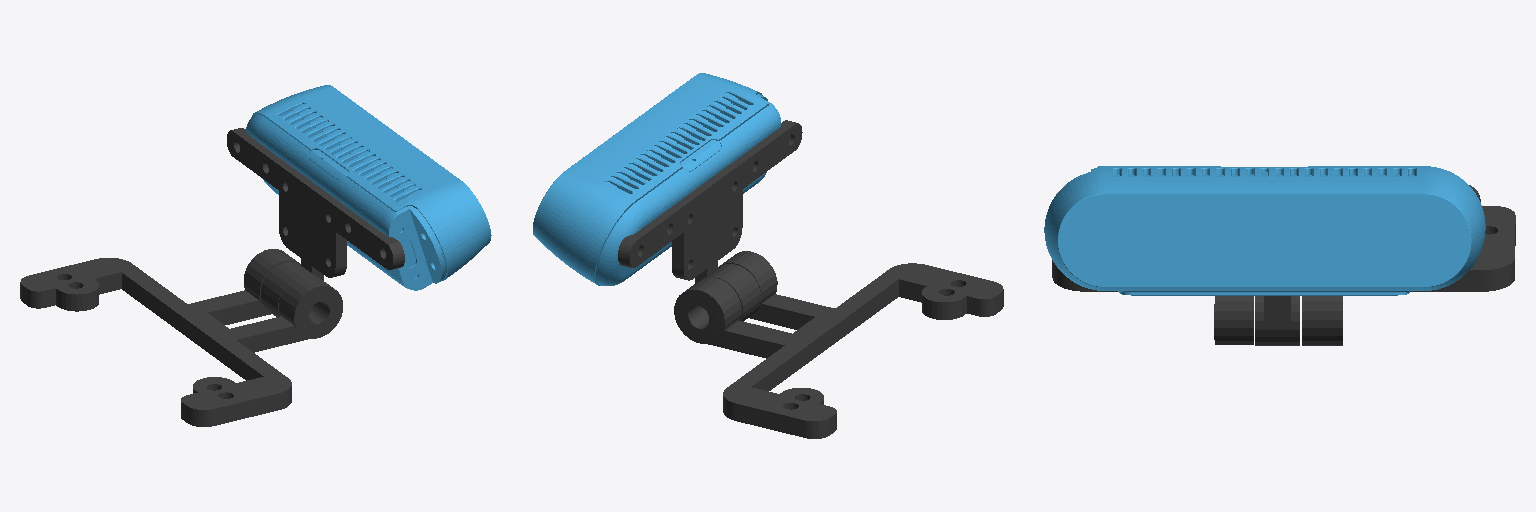
The robot description file, URDF, robot "turtlebot3_burger":
<?xml version="1.0" ?>
<!-- =================================================================================== -->
<!-- |    This document was autogenerated by xacro from turtlebot3_burger.urdf         | -->
<!-- |    EDITING THIS FILE BY HAND IS NOT RECOMMENDED                                 | -->
<!-- =================================================================================== -->
<robot name="turtlebot3_burger">
  <!-- <xacro:include filename="$(find turtlebot3_descriptions)/urdf/common_properties.urdf"/> -->
  <!-- Init colour -->
  <material name="black">
    <color rgba="0.0 0.0 0.0 1.0"/>
  </material>
  <material name="dark">
    <color rgba="0.3 0.3 0.3 1.0"/>
  </material>
  <material name="light_black">
    <color rgba="0.4 0.4 0.4 1.0"/>
  </material>
  <material name="blue">
    <color rgba="0.0 0.0 0.8 1.0"/>
  </material>
  <material name="green">
    <color rgba="0.0 0.8 0.0 1.0"/>
  </material>
  <material name="grey">
    <color rgba="0.5 0.5 0.5 1.0"/>
  </material>
  <material name="orange">
    <color rgba="1.0 0.4235 0.0392 1.0"/>
  </material>
  <material name="brown">
    <color rgba="0.8706 0.8118 0.7647 1.0"/>
  </material>
  <material name="red">
    <color rgba="0.8 0.0 0.0 1.0"/>
  </material>
  <material name="white">
    <color rgba="1.0 1.0 1.0 1.0"/>
  </material>
  <link name="base_footprint"/>
  <joint name="base_joint" type="fixed">
    <parent link="base_footprint"/>
    <child link="base_link"/>
    <origin rpy="0 0 0" xyz="0.0 0.0 0.010"/>
  </joint>
  <link name="base_link">
    <visual>
      <origin rpy="0 0 0" xyz="-0.032 0 0.0"/>
      <geometry>
        <mesh filename="package://turtlebot3_descriptions/meshes/bases/burger_base.stl" scale="0.001 0.001 0.001"/>
      </geometry>
      <material name="light_black"/>
    </visual>
    <collision>
      <origin rpy="0 0 0" xyz="-0.032 0 0.070"/>
      <geometry>
        <box size="0.140 0.140 0.143"/>
      </geometry>
    </collision>
    <inertial>
      <origin rpy="0 0 0" xyz="-0.033 0 0.07"/>
      <mass value="8.2573504e-01"/>
      <inertia ixx="2.2124416e-03" ixy="0.0" ixz="0.0" iyy="2.1193702e-03" iyz="0.0" izz="2.0064271e-03"/>
    </inertial>
  </link>
  <joint name="wheel_left_joint" type="continuous">
    <parent link="base_link"/>
    <child link="wheel_left_link"/>
    <origin rpy="-1.57 0 0" xyz="0.0 0.08 0.023"/>
    <axis xyz="0 0 1"/>
  </joint>
  <link name="wheel_left_link">
    <visual>
      <origin rpy="1.57 0 0" xyz="0 0 0"/>
      <geometry>
        <mesh filename="package://turtlebot3_descriptions/meshes/wheels/left_tire.stl" scale="0.001 0.001 0.001"/>
      </geometry>
      <material name="dark"/>
    </visual>
    <collision>
      <origin rpy="0 0 0" xyz="0 0 0"/>
      <geometry>
        <cylinder length="0.018" radius="0.033"/>
      </geometry>
    </collision>
    <inertial>
      <origin xyz="0 0 0"/>
      <mass value="2.8498940e-02"/>
      <inertia ixx="1.1175580e-05" ixy="0.0" ixz="0.0" iyy="1.1192413e-05" iyz="0.0" izz="2.0712558e-05"/>
    </inertial>
  </link>
  <joint name="wheel_right_joint" type="continuous">
    <parent link="base_link"/>
    <child link="wheel_right_link"/>
    <origin rpy="-1.57 0 0" xyz="0.0 -0.080 0.023"/>
    <axis xyz="0 0 1"/>
  </joint>
  <link name="wheel_right_link">
    <visual>
      <origin rpy="1.57 0 0" xyz="0 0 0"/>
      <geometry>
        <mesh filename="package://turtlebot3_descriptions/meshes/wheels/right_tire.stl" scale="0.001 0.001 0.001"/>
      </geometry>
      <material name="dark"/>
    </visual>
    <collision>
      <origin rpy="0 0 0" xyz="0 0 0"/>
      <geometry>
        <cylinder length="0.018" radius="0.033"/>
      </geometry>
    </collision>
    <inertial>
      <origin xyz="0 0 0"/>
      <mass value="2.8498940e-02"/>
      <inertia ixx="1.1175580e-05" ixy="0.0" ixz="0.0" iyy="1.1192413e-05" iyz="0.0" izz="2.0712558e-05"/>
    </inertial>
  </link>
  <joint name="caster_back_joint" type="fixed">
    <parent link="base_link"/>
    <child link="caster_back_link"/>
    <origin rpy="-1.57 0 0" xyz="-0.081 0 -0.004"/>
  </joint>
  <link name="caster_back_link">
    <collision>
      <origin rpy="0 0 0" xyz="0 0.001 0"/>
      <geometry>
        <box size="0.030 0.009 0.020"/>
      </geometry>
    </collision>
    <inertial>
      <origin xyz="0 0 0"/>
      <mass value="0.005"/>
      <inertia ixx="1.0e-07" ixy="0.0" ixz="0.0" iyy="1.0e-07" iyz="0.0" izz="1.0e-07"/>
    </inertial>
  </link>

  <joint name="support_cameras_a_joint" type="fixed">
    <parent link="base_link"/>
    <child link="support_cameras_a_link"/>
    <origin rpy="0 0 0" xyz="0.023 0 0.101"/>
  </joint>
  <link name="support_cameras_a_link">
    <visual>
      <origin rpy="0 0 1.57" xyz="0 0 0"/>
      <geometry>
        <mesh filename="package://turtlebot3_descriptions/meshes/sensors/support_cameras_part_a.stl" scale="0.001 0.001 0.001"/>
      </geometry>
      <material name="dark"/>
    </visual>
    <collision>
      <origin rpy="0 0 1.57" xyz="0.036 0.0 0"/>
      <geometry>
        <box size="0.09 0.03 0.015"/>
      </geometry>
    </collision>
  </link>

  <joint name="support_cameras_b_joint" type="fixed">
    <parent link="support_cameras_a_link"/>
    <child link="support_cameras_b_link"/>
    <origin rpy="0 -1.57 0" xyz="0.0435 0 0"/>
  </joint>
  <link name="support_cameras_b_link">
    <visual>
      <origin rpy="0 0 -1.57" xyz="0 0 0"/>
      <geometry>
        <mesh filename="package://turtlebot3_descriptions/meshes/sensors/support_cameras_part_b.stl" scale="0.001 0.001 0.001"/>
      </geometry>
      <material name="dark"/>
    </visual>
    <collision>
      <origin rpy="0 0 -1.57" xyz="0.018 0 0"/>
      <geometry>
        <box size="0.09 0.025 0.015"/>
      </geometry>
    </collision>
  </link>

  <joint name="imu_joint" type="fixed">
    <parent link="base_link"/>
    <child link="imu_link"/>
    <origin rpy="0 0 0" xyz="-0.032 0 0.068"/>
  </joint>
  <link name="imu_link"/>
  <joint name="scan_joint" type="fixed">
    <parent link="base_link"/>
    <child link="base_scan"/>
    <origin rpy="0 0 0" xyz="-0.032 0 0.172"/>
  </joint>
  <link name="base_scan">
    <visual>
      <origin rpy="0 0 0" xyz="0 0 0.0"/>
      <geometry>
        <mesh filename="package://turtlebot3_descriptions/meshes/sensors/lds.stl" scale="0.001 0.001 0.001"/>
      </geometry>
      <material name="dark"/>
    </visual>
    <collision>
      <origin rpy="0 0 0" xyz="0.015 0 -0.0065"/>
      <geometry>
        <cylinder length="0.0315" radius="0.055"/>
      </geometry>
    </collision>
    <inertial>
      <mass value="0.114"/>
      <origin xyz="0 0 -0.01"/>
      <inertia ixx="47.43e-06" ixy="0.0" ixz="0.0" iyy="79.51e-06" iyz="0.0" izz="102.75e-06"/>
    </inertial>
  </link>

  <link name="D435i_camera">
    <visual name="meshes">
      <origin xyz="0.0 0.0 0.0" rpy="0 0 0"/>
      <geometry>
          <mesh filename="package://turtlebot3_descriptions/meshes/sensors/intel_d435i.dae" scale="1.0 1.0 1.0"/>
      </geometry>
    </visual>
    <inertial>
      <origin xyz="0.003 -0.003 -0.001"/>
      <mass value="0.07200000"/>
      <inertia ixx="0.00004391" ixy="0.00000029" ixz="0.00000001" iyy="0.00000658" iyz="-0.00000001" izz="0.00004427"/>
    </inertial>
    <collision>
      <origin rpy="0.0 0.0 0.0" xyz="0 -0.0025 0"/>
      <geometry>
        <box size="0.028 0.09 0.02"/>
      </geometry>
    </collision>
  </link>
  <joint name="joint_d435i_camera" type="fixed">
    <parent link="support_cameras_a_link"/>
    <child link="D435i_camera"/>
    <origin xyz="0.0613 0.0 0.028" rpy="0 -0.3 0"/>
  </joint>

  <link name="D435i_color_optical_frame"/>
  <joint name="joint_d435i_color_optical_frame" type="fixed">
    <parent link="D435i_camera"/>
    <child link="D435i_color_optical_frame"/>
    <origin xyz="0.1 0.0 0.0" rpy="0 0 0"/>
  </joint>

  <link name="D435i_depth_optical_frame"/>
  <joint name="joint_d435i_depth_optical_frame" type="fixed">
    <parent link="D435i_camera"/>
    <child link="D435i_depth_optical_frame"/>
    <origin xyz="0.0 0.0 0.0" rpy="0 0 0"/>
  </joint>

  <gazebo reference="imu_link">
    <sensor name="tb3_imu" type="imu">
      <always_on>true</always_on>
      <update_rate>200</update_rate>
      <topic>imu</topic>
      <imu>
        <angular_velocity>
  	  <x>
	    <noise type="gaussian">
	      <mean>0.0</mean>
	      <stddev>2e-4</stddev>
	    </noise>
	  </x>
	  <y>
	    <noise type="gaussian">
	      <mean>0.0</mean>
	      <stddev>2e-4</stddev>
	    </noise>
	  </y>
	  <z>
	    <noise type="gaussian">
	      <mean>0.0</mean>
	      <stddev>2e-4</stddev>
	    </noise>
	  </z>
        </angular_velocity>
        <linear_acceleration>
	  <x>
	    <noise type="gaussian">
	      <mean>0.0</mean>
	      <stddev>1.7e-2</stddev>
	    </noise>
	  </x>
	  <y>
	    <noise type="gaussian">
	      <mean>0.0</mean>
	      <stddev>1.7e-2</stddev>
	    </noise>
	  </y>
	  <z>
	    <noise type="gaussian">
	      <mean>0.0</mean>
	      <stddev>1.7e-2</stddev>
	    </noise>
	  </z>
        </linear_acceleration>
      </imu>
    </sensor>
  </gazebo>

  <gazebo reference="base_scan">
    <sensor name="hls_lfcd_lds" type="gpu_lidar">
      <always_on>true</always_on>
      <visualize>true</visualize>
      <update_rate>5</update_rate>
      <topic>scan</topic>
      <gz_frame_id>base_scan</gz_frame_id>
      <lidar>
        <scan>
          <horizontal>
            <samples>360</samples>
            <resolution>1.000000</resolution>
            <min_angle>0.000000</min_angle>
            <max_angle>6.280000</max_angle>
          </horizontal>
        </scan>
        <range>
          <min>0.120000</min>
          <max>3.5</max>
          <resolution>0.015000</resolution>
        </range>
	<noise type="gaussian">
          <mean>0.0</mean>
          <stddev>0.01</stddev>
        </noise>
      </lidar>
    </sensor>
  </gazebo>

  <gazebo reference="D435i_color_optical_frame">
    <sensor name="rgb_camera" type="camera">
      <pose>0 0 0 0 0 0</pose>
      <always_on>1</always_on>
      <update_rate>30</update_rate>
      <visualize>true</visualize>
      <topic>rgb_camera/image</topic>
      <gz_frame_id>D435i_color_optical_frame</gz_frame_id>
      <camera>
        <horizontal_fov>1.047</horizontal_fov> <!-- 60 degrés -->
        <image>
          <width>640</width>
          <height>480</height>
          <format>RGB_INT8</format>
        </image>
        <clip>
          <near>0.1</near>
          <far>100</far>
        </clip>
      </camera>
    </sensor>
  </gazebo>

  <gazebo reference="D435i_depth_optical_frame">
    <sensor name="depth_camera" type="depth_camera">
      <pose>0 0 0 0 0 0</pose>
      <always_on>1</always_on>
      <update_rate>30</update_rate>
      <visualize>true</visualize>
      <topic>depth_camera/image</topic>
      <gz_frame_id>D435i_depth_optical_frame</gz_frame_id>
      <camera>
        <horizontal_fov>1.047</horizontal_fov>
        <image>
          <width>640</width>
          <height>480</height>
          <format>R_FLOAT32</format>
        </image>
        <clip>
          <near>0.1</near>
          <far>100.0</far>
        </clip>
      </camera>
    </sensor>
  </gazebo>

  <gazebo>
    <plugin filename="gz-sim-diff-drive-system" name="gz::sim::systems::DiffDrive">
      <left_joint>wheel_left_joint</left_joint>
      <right_joint>wheel_right_joint</right_joint>
      <wheel_separation>0.160</wheel_separation>
      <wheel_radius>0.033</wheel_radius>
      <max_linear_acceleration>1.0</max_linear_acceleration>
      <topic>cmd_vel</topic>
      <odom_topic>odom</odom_topic>
      <frame_id>odom</frame_id>
      <tf_topic>/tf</tf_topic>
      <odom_publisher_frequency>30</odom_publisher_frequency>
      <child_frame_id>base_footprint</child_frame_id>
    </plugin>
  </gazebo>

  <gazebo>
    <plugin filename="gz-sim-joint-state-publisher-system" name="gz::sim::systems::JointStatePublisher">
      <joint_name>wheel_left_joint</joint_name>
      <joint_name>wheel_right_joint</joint_name>
      <topic>joint_states</topic>
    </plugin>
  </gazebo>













</robot>

--- What the picture shows (computed from the rendered views, not written in the file) ---
Views: 3 orthographic renders of the robot side by side, from view 1: azimuth 30°, elevation 25°; view 2: azimuth 150°, elevation 25°; view 3: azimuth 270°, elevation 25°.
Robot: turtlebot3_burger — 12 links, 11 joints (2 continuous, 9 fixed); root link base_footprint; default pose: all joints at 0.
Links seen in each view (by area): view 1: D435i_camera, support_cameras_a_link, support_cameras_b_link; view 2: D435i_camera, support_cameras_a_link, support_cameras_b_link; view 3: D435i_camera, support_cameras_a_link, support_cameras_b_link.
Boxes of the visible links, x1,y1,x2,y2 form: D435i_camera: [246, 85, 491, 290]; support_cameras_a_link: [20, 249, 342, 426]; support_cameras_b_link: [227, 128, 404, 316]; D435i_camera: [533, 73, 781, 285]; support_cameras_a_link: [674, 251, 1003, 438]; support_cameras_b_link: [618, 120, 802, 321]; D435i_camera: [1044, 166, 1485, 295]; support_cameras_a_link: [1052, 206, 1515, 345]; support_cameras_b_link: [1255, 185, 1480, 345].
Size in the robot's own frame: 0.0902 by 0.0959 by 0.0471 metres.
Meshes: 7 distinct files referenced, 3 mesh visuals loaded (2 binary STL, 1 Collada DAE); not drawn: 4 (reference not matched to a file when rendering).